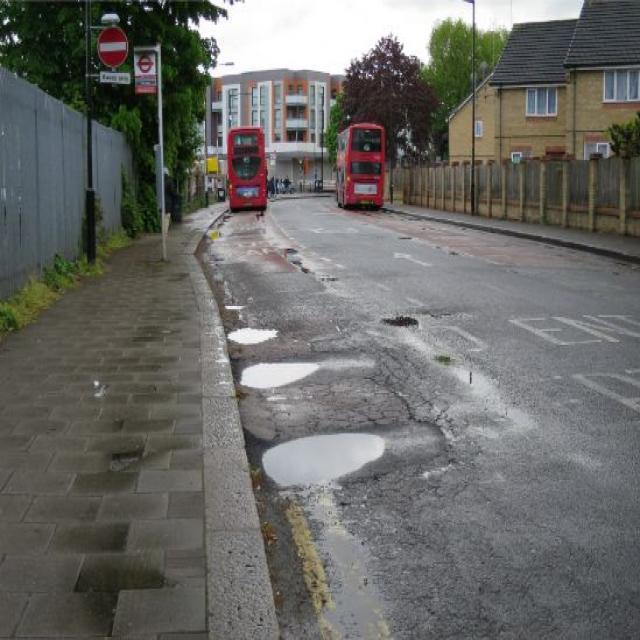Pothole: (259, 424, 392, 486), (236, 352, 324, 399), (226, 318, 282, 348)
